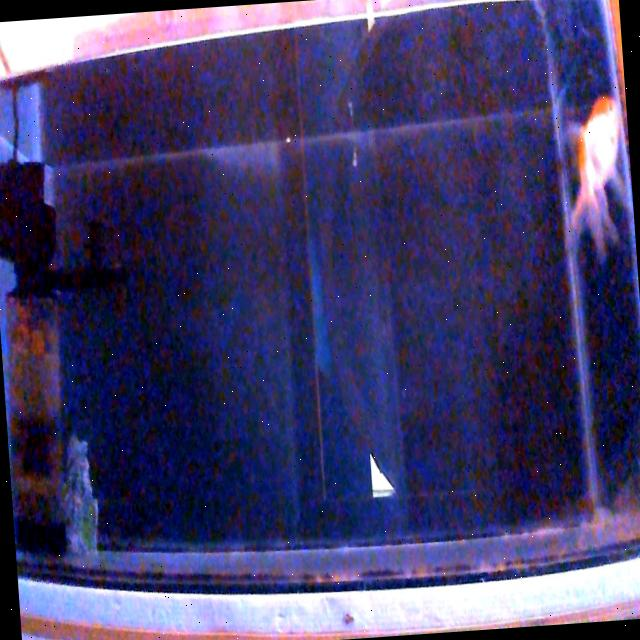fish: (562, 95, 632, 264)
